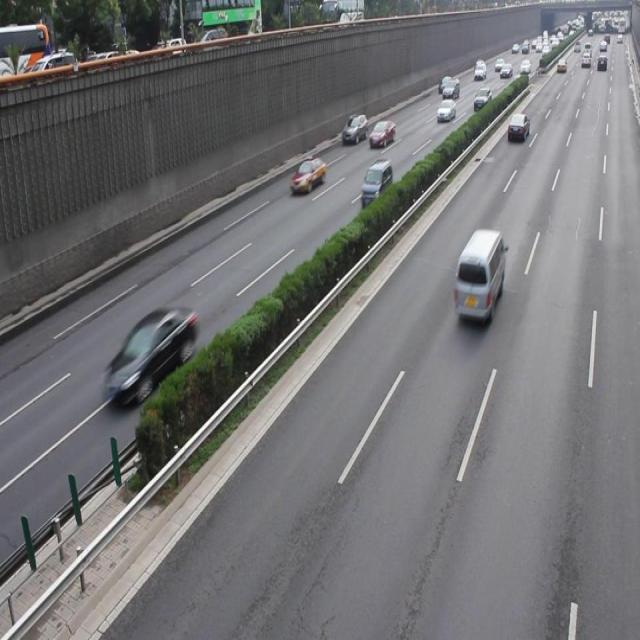car: (102, 306, 194, 403), (291, 157, 326, 193)
truck: (453, 230, 504, 318), (360, 160, 392, 206)
